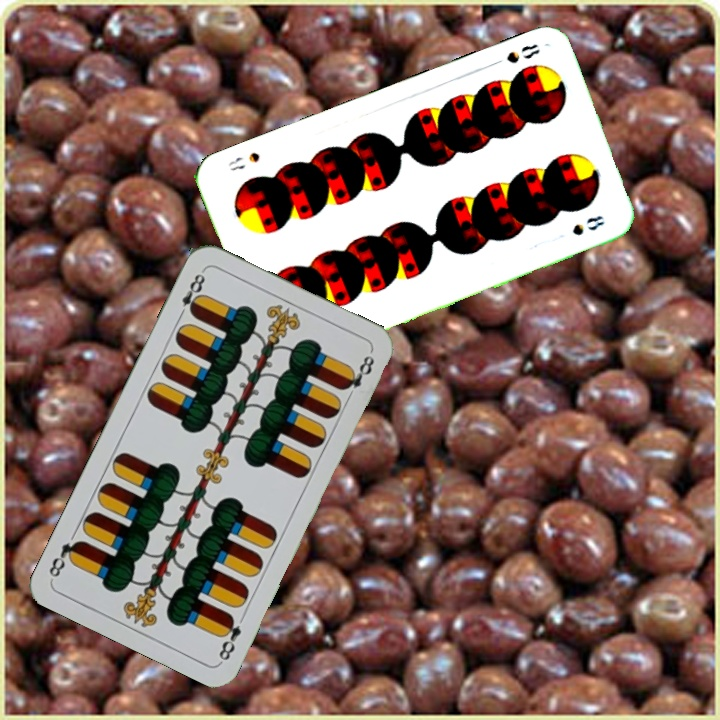E8: (174, 266, 208, 321), (214, 611, 244, 664)
S8: (487, 39, 542, 69)
